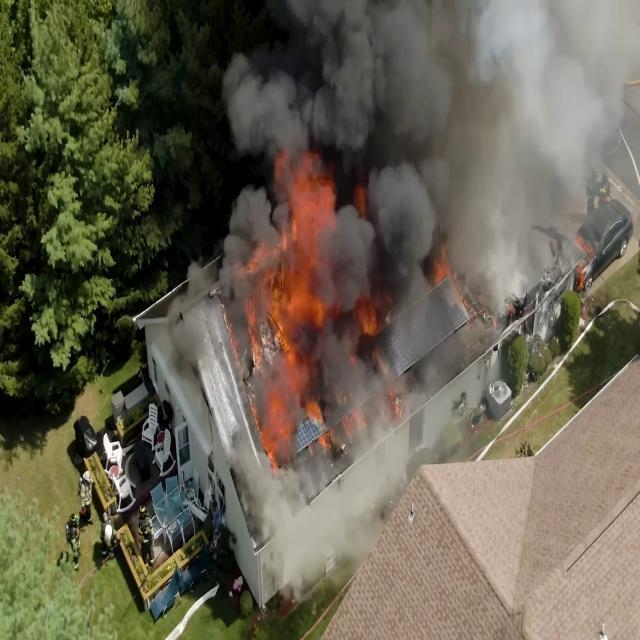Fire: (252, 163, 333, 345), (262, 358, 309, 476)
Smoke: (335, 8, 498, 232)
